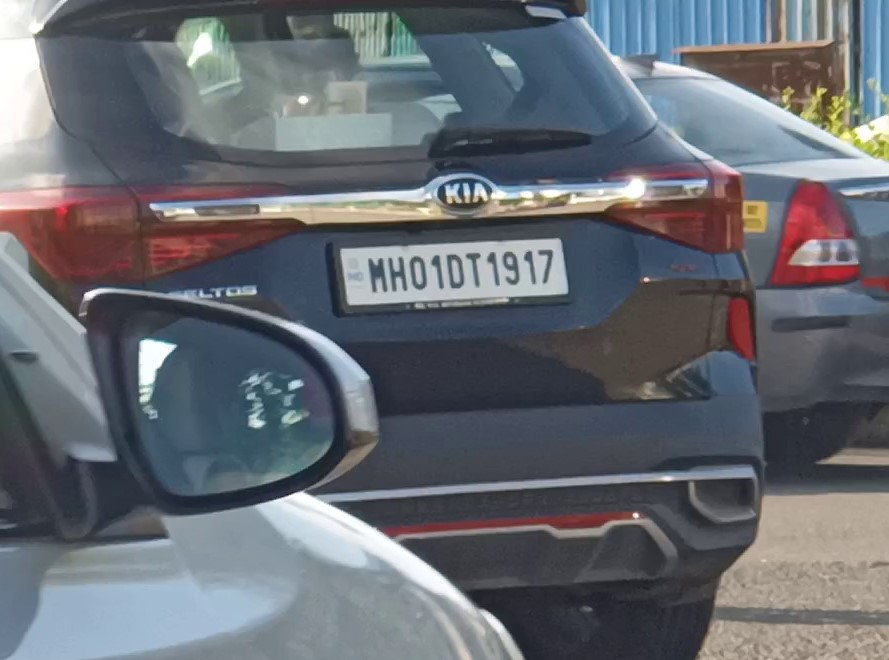MH01DT1917: (340, 235, 569, 307)
